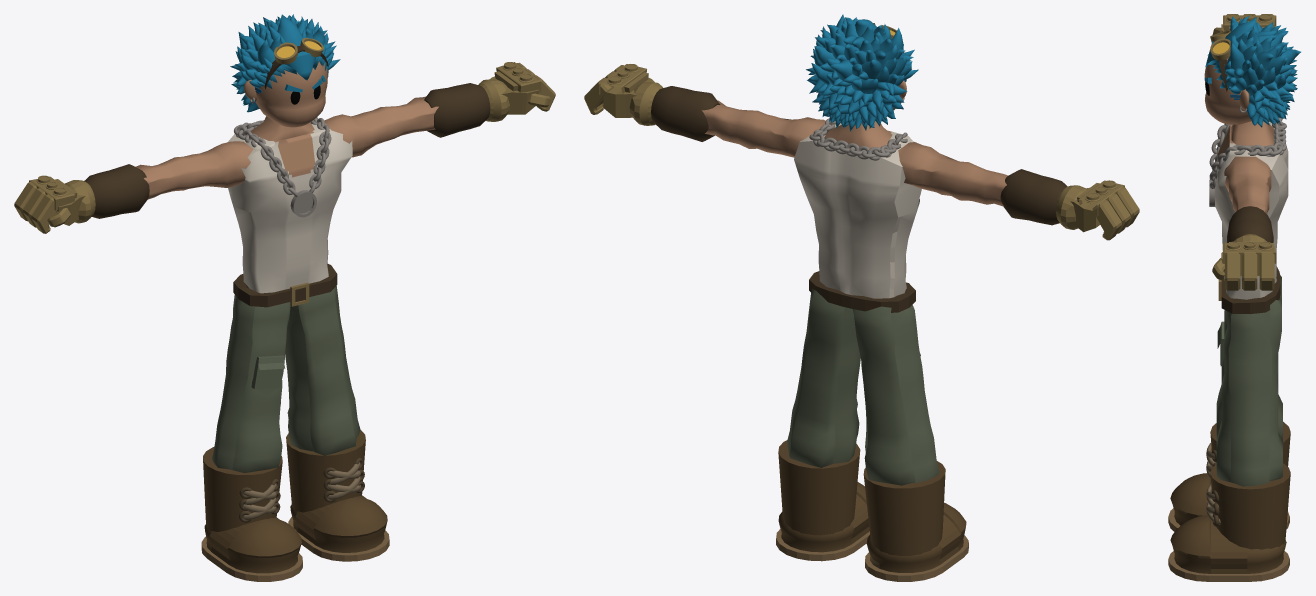
File: DOZEN 2109 FINAL FBX.fbx
The picture shows the model from 3 angles, left to right: view 1: azimuth 30°, elevation 25°; view 2: azimuth 150°, elevation 25°; view 3: azimuth 270°, elevation 25°; orthographic projection. The views are drawn at different scales.
Visible parts, largest first — view 1: pasted__polySurface562, pasted__polySurface418, pasted__polySurface473, polySurface9, polySurface21, pasted__polySurface459, pasted__polySurface613, polySurface8, pasted__polySurface482, pasted__polySurface526, polySurface20, pasted__polySurface553 (+7 smaller); view 2: pasted__polySurface562, pasted__polySurface418, pasted__polySurface473, pasted__polySurface459, polySurface8, polySurface20, pasted__polySurface613, pasted__polySurface526, pasted__polySurface482, polySurface9, pasted__polySurface553, polySurface21 (+4 smaller); view 3: pasted__polySurface473, pasted__polySurface459, polySurface21, polySurface20, pasted__polySurface562, pasted__polySurface538, pasted__polySurface526, polySurface9, pasted__polySurface444, pasted__polySurface544, pasted__polySurface482, pasted__polySurface418 (+7 smaller).
Part boxes in pixels (bbox=[...]): pasted__polySurface562: bbox=[228, 122, 352, 307]; pasted__polySurface418: bbox=[212, 294, 290, 472]; pasted__polySurface473: bbox=[285, 286, 360, 456]; polySurface9: bbox=[201, 517, 302, 581]; polySurface21: bbox=[288, 495, 389, 561]; pasted__polySurface459: bbox=[230, 14, 340, 112]; pasted__polySurface613: bbox=[135, 141, 253, 199]; polySurface8: bbox=[203, 447, 282, 532]; pasted__polySurface482: bbox=[424, 79, 509, 137]; pasted__polySurface526: bbox=[324, 96, 438, 157]; polySurface20: bbox=[286, 429, 365, 512]; pasted__polySurface553: bbox=[65, 164, 149, 223]; pasted__polySurface562: bbox=[794, 123, 921, 312]; pasted__polySurface418: bbox=[852, 305, 939, 485]; pasted__polySurface473: bbox=[787, 288, 860, 467]; pasted__polySurface459: bbox=[806, 14, 918, 131]; polySurface8: bbox=[863, 461, 945, 555]; polySurface20: bbox=[778, 440, 860, 535]; pasted__polySurface613: bbox=[898, 142, 1007, 206]; pasted__polySurface526: bbox=[702, 100, 825, 157]; pasted__polySurface482: bbox=[629, 81, 720, 141]; polySurface9: bbox=[865, 502, 968, 581]; pasted__polySurface553: bbox=[1000, 169, 1087, 229]; polySurface21: bbox=[776, 482, 869, 561]; pasted__polySurface473: bbox=[1216, 297, 1282, 486]; pasted__polySurface459: bbox=[1205, 15, 1300, 127]; polySurface21: bbox=[1168, 515, 1289, 581]; polySurface20: bbox=[1210, 463, 1290, 549]; pasted__polySurface562: bbox=[1214, 122, 1288, 314]; pasted__polySurface538: bbox=[1212, 241, 1276, 290]; pasted__polySurface526: bbox=[1224, 156, 1271, 214]; polySurface9: bbox=[1168, 473, 1289, 531]; pasted__polySurface444: bbox=[1209, 117, 1286, 188]; pasted__polySurface544: bbox=[1204, 58, 1251, 124]; pasted__polySurface482: bbox=[1227, 206, 1273, 242]; pasted__polySurface418: bbox=[1216, 275, 1282, 441].
Size of the model in its own units: 0.1985 by 0.1918 by 0.0441.
